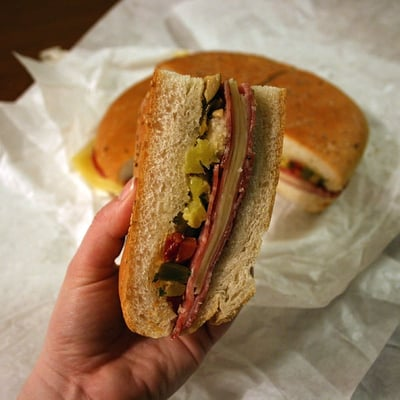burger: (118, 66, 288, 341)
